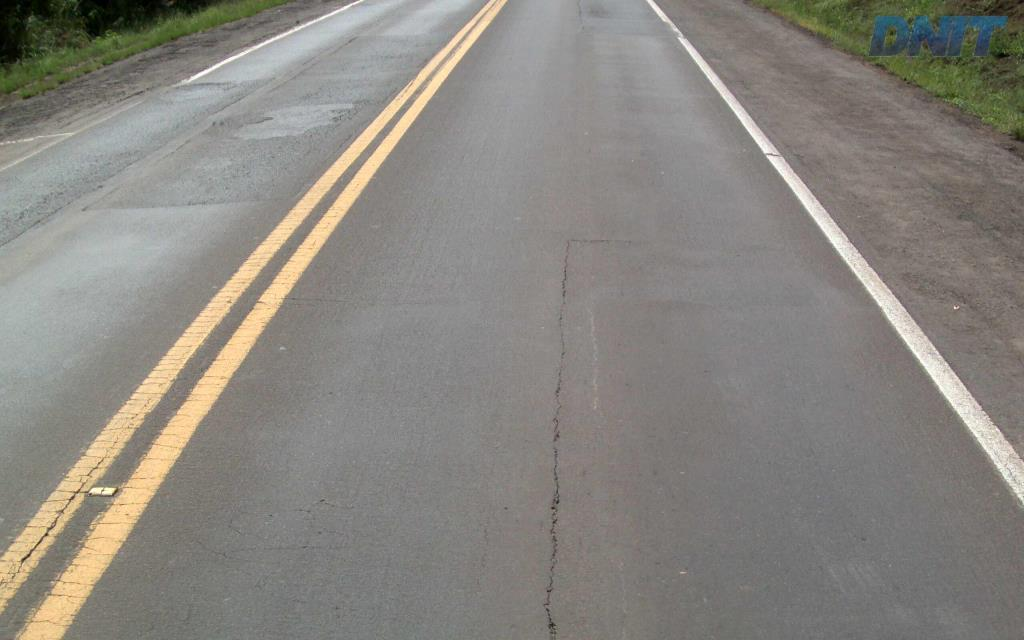crack: (542, 447, 560, 639)
